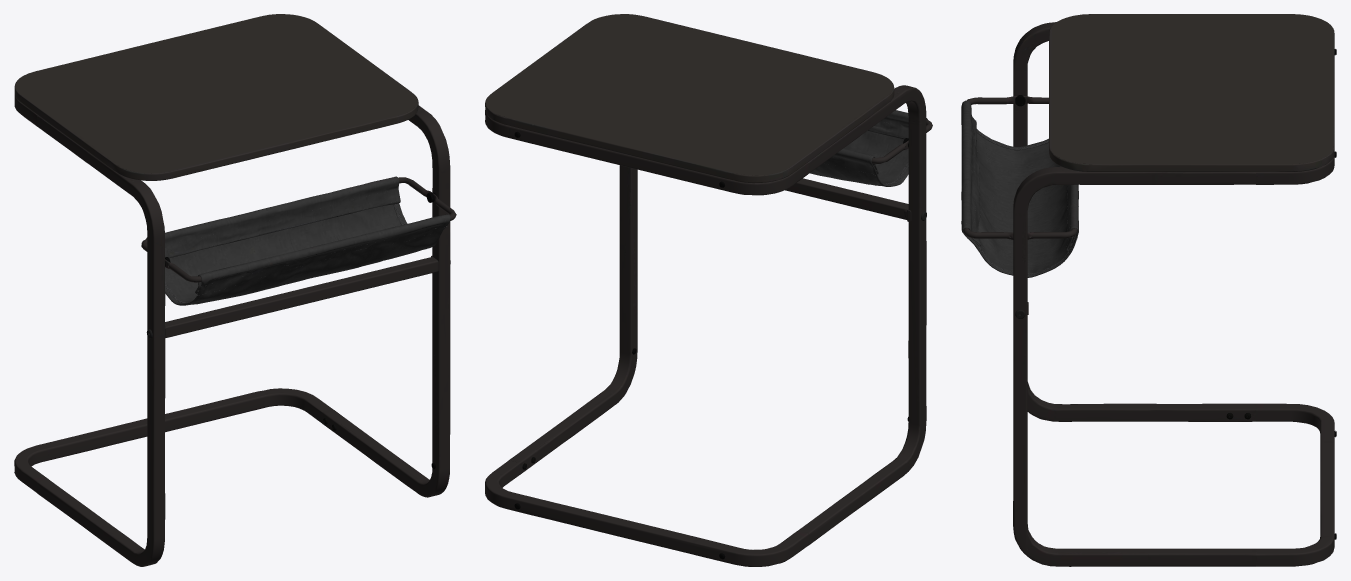
The model's file is OLSER_D_40530917.glb.
3 renders of one model, left to right at view 1: azimuth 30°, elevation 25°; view 2: azimuth 150°, elevation 25°; view 3: azimuth 270°, elevation 25°, orthographic. The views are drawn at different scales.
Visible parts, largest first — view 1: 40530917-OLSERÃƒâ€“D001; view 2: 40530917-OLSERÃƒâ€“D001; view 3: 40530917-OLSERÃƒâ€“D001.
Part boxes in pixels (x1,y1,x2,y2): 40530917-OLSERÃƒâ€“D001: (14,14,456,566); 40530917-OLSERÃƒâ€“D001: (485,14,932,566); 40530917-OLSERÃƒâ€“D001: (961,14,1336,566).
Size of the model in its own units: 0.5051 by 0.6252 by 0.5259.
Materials: 1 (1 with a texture image).
